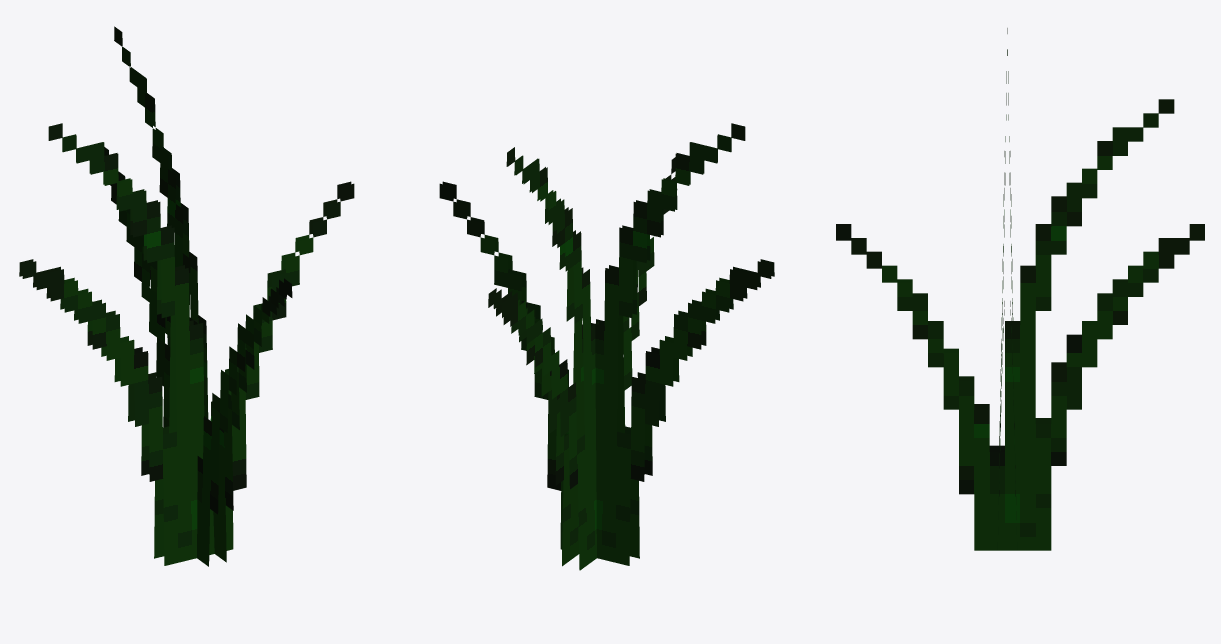
The model's file is grass01_summer.glb.
3 renders of one model, left to right at view 1: azimuth 30°, elevation 25°; view 2: azimuth 150°, elevation 25°; view 3: azimuth 270°, elevation 25°, orthographic. The views are drawn at different scales.
Parts seen in each view (by area): view 1: grass01; view 2: grass01; view 3: grass01.
Part boxes in pixels (<box>): grass01: <box>19,26,354,566</box>; grass01: <box>439,123,774,570</box>; grass01: <box>836,28,1204,550</box>.
Bounding box in the file's own units: 0.324 × 0.4 × 0.3232.
1 material, 1 textured.
